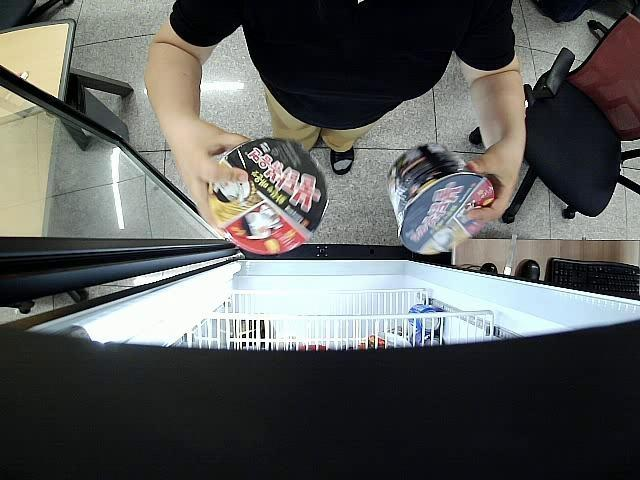07_buldak_L: (208, 138, 329, 255), (385, 140, 494, 255)
